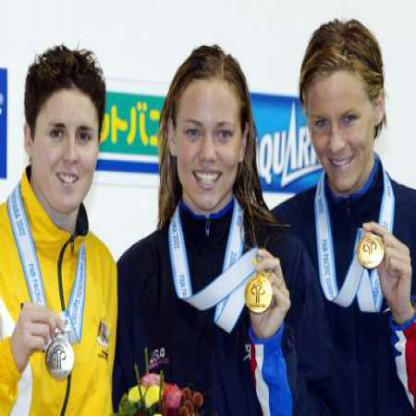face: (33, 56, 103, 215), (177, 53, 243, 211), (309, 43, 376, 193)
